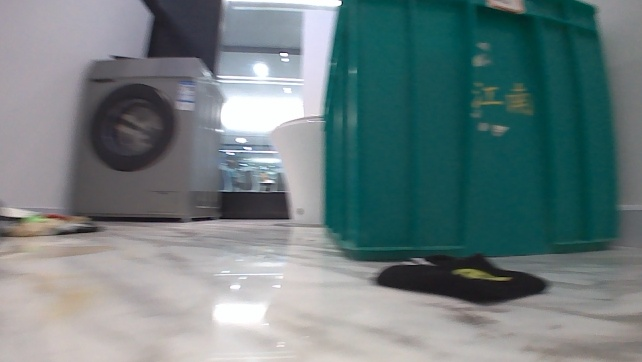socks: (374, 248, 550, 310)
toilet: (267, 113, 325, 225)
washing_machine: (70, 51, 227, 220)
